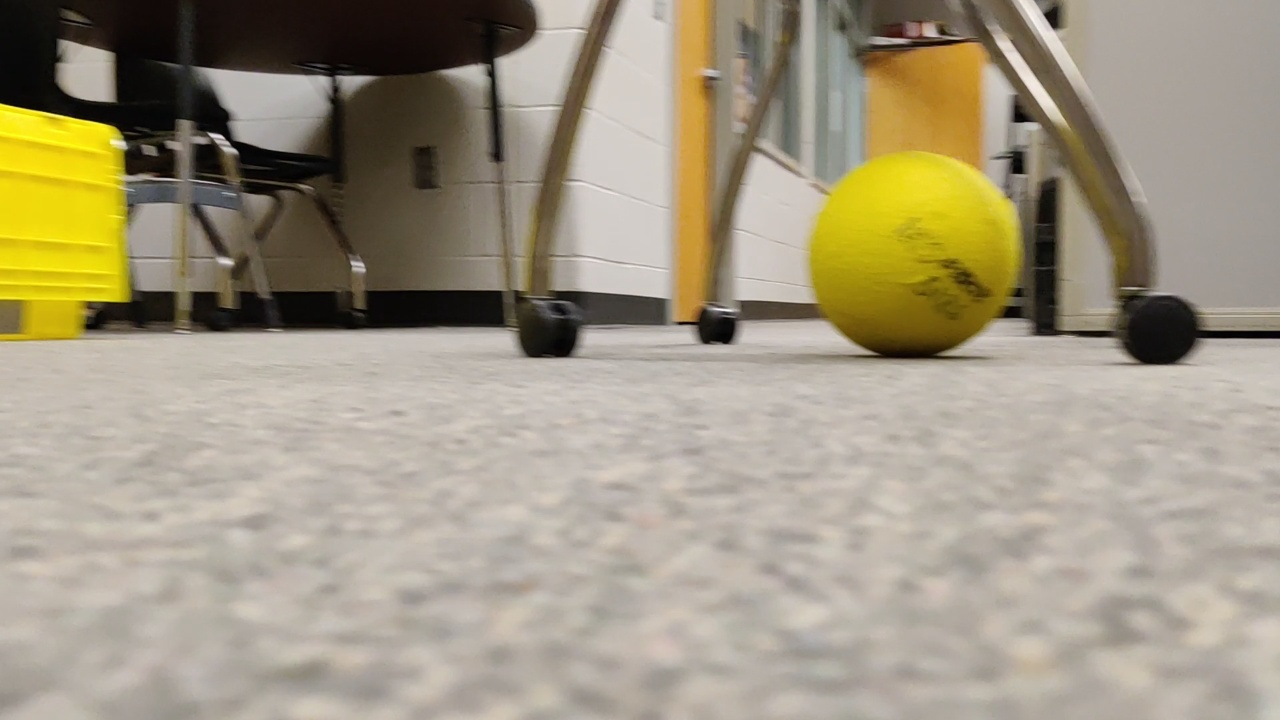Ball: (799, 120, 1046, 364)
